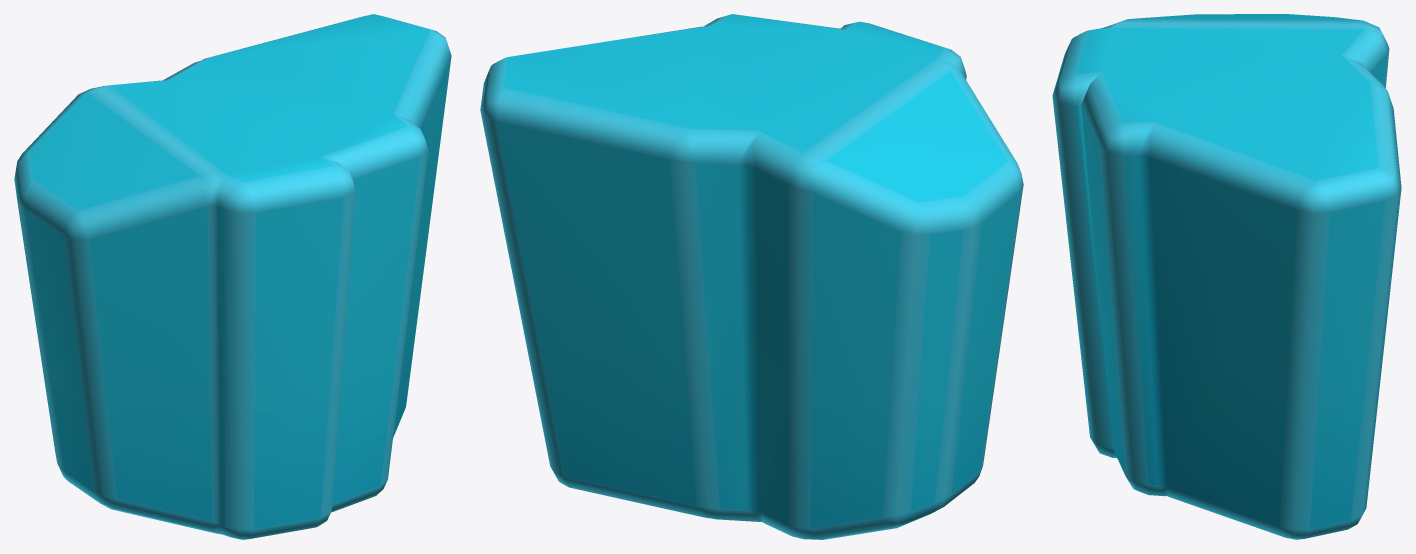
File: ice_002.fbx
3 renders of one model, left to right at view 1: azimuth 30°, elevation 25°; view 2: azimuth 150°, elevation 25°; view 3: azimuth 270°, elevation 25°, orthographic. The views are drawn at different scales.
Parts seen in each view (by area): view 1: ice_002; view 2: ice_002; view 3: ice_002.
Boxes of the visible parts, <box> form: ice_002: <box>14,14,451,539</box>; ice_002: <box>480,14,1023,539</box>; ice_002: <box>1052,14,1401,539</box>.
Bounding box in the file's own units: 380 × 251 × 308.
